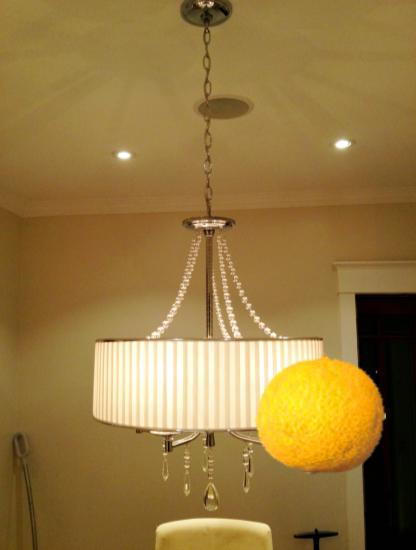Cantaloupe: (255, 349, 386, 480)
